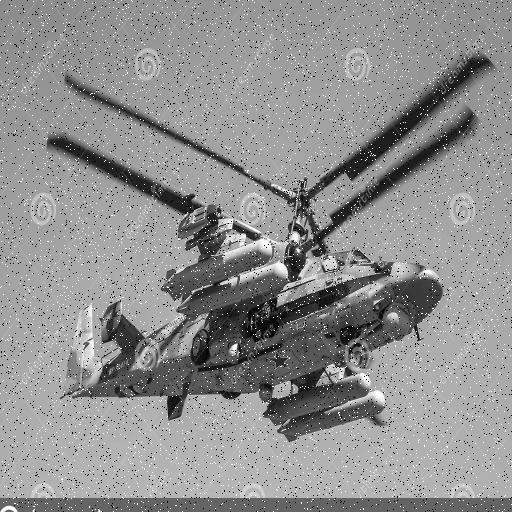helicopter: (47, 45, 497, 441)
